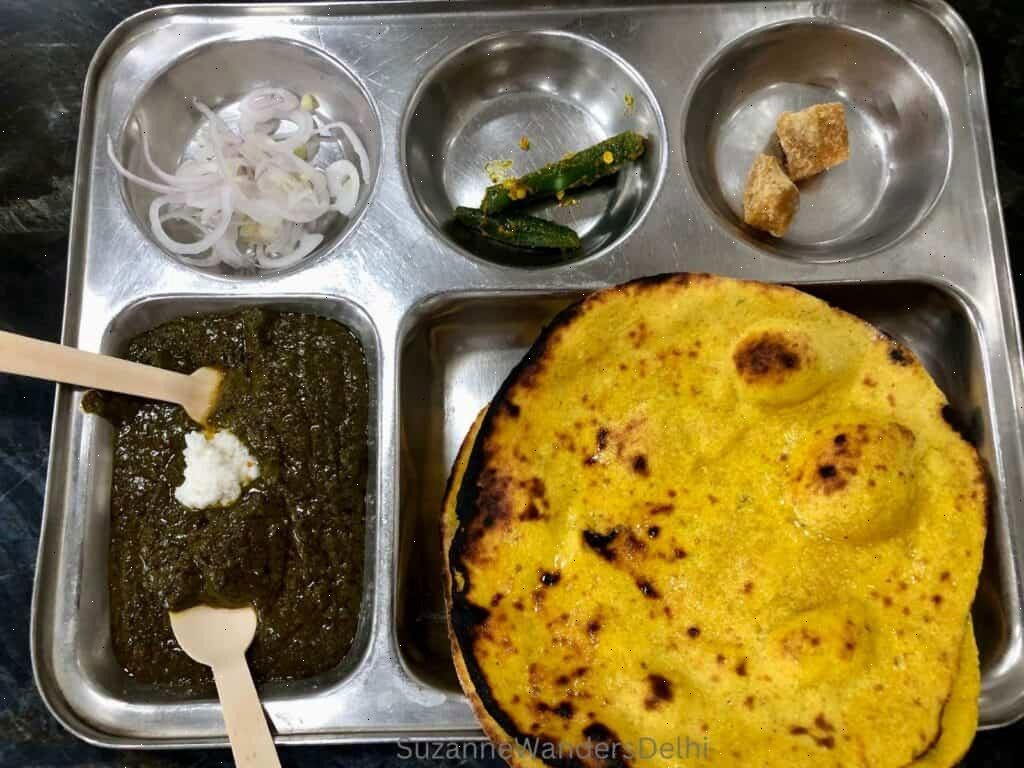saag: (113, 339, 353, 687)
